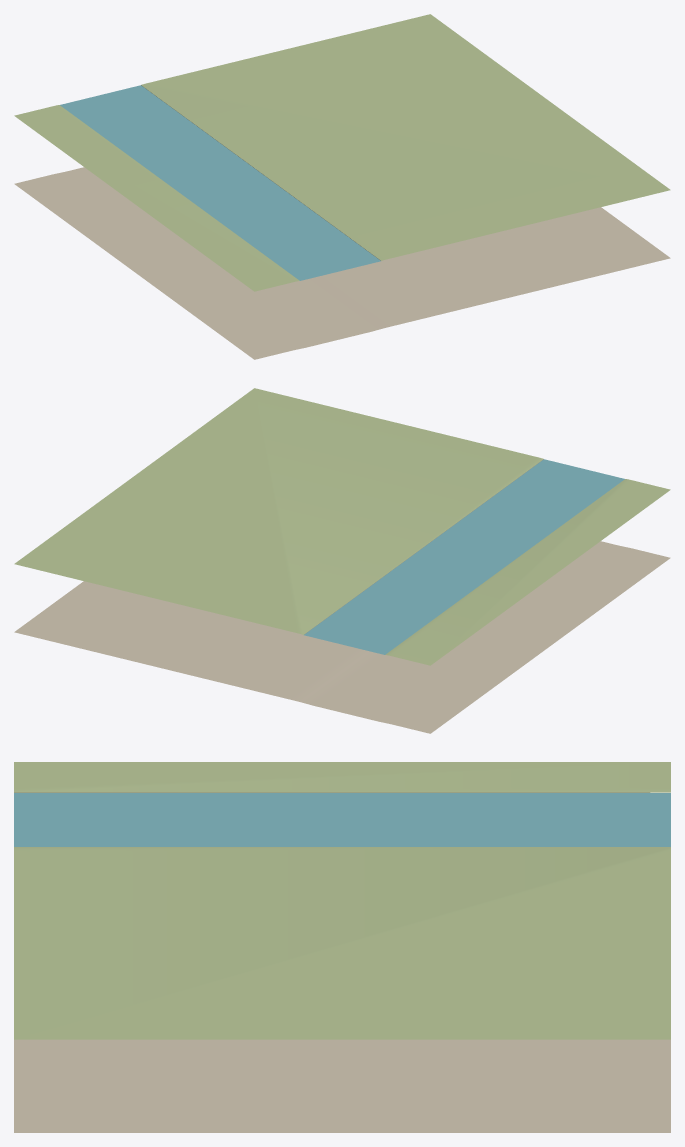
3 views of the same model, one above another, from view 1: azimuth 30°, elevation 25°; view 2: azimuth 150°, elevation 25°; view 3: azimuth 270°, elevation 25° (orthographic). The views are drawn at different scales.
Visible parts, largest first — view 1: s_11_4__grass, s_11_4__soil, s_11_4__water; view 2: s_11_4__grass, s_11_4__soil, s_11_4__water; view 3: s_11_4__grass, s_11_4__soil, s_11_4__water, s_11_4__shore_bank.
Boxes of the visible parts, x1,y1,x2,y2 form: s_11_4__grass: (14,14,670,291); s_11_4__soil: (14,167,670,359); s_11_4__water: (60,85,380,280); s_11_4__grass: (14,388,670,665); s_11_4__soil: (14,541,670,733); s_11_4__water: (304,459,624,654); s_11_4__grass: (14,762,670,1039); s_11_4__soil: (14,1039,670,1132); s_11_4__water: (14,793,670,846); s_11_4__shore_bank: (14,792,649,792).
Size of the model in its own units: 128 by 20.14 by 128.
